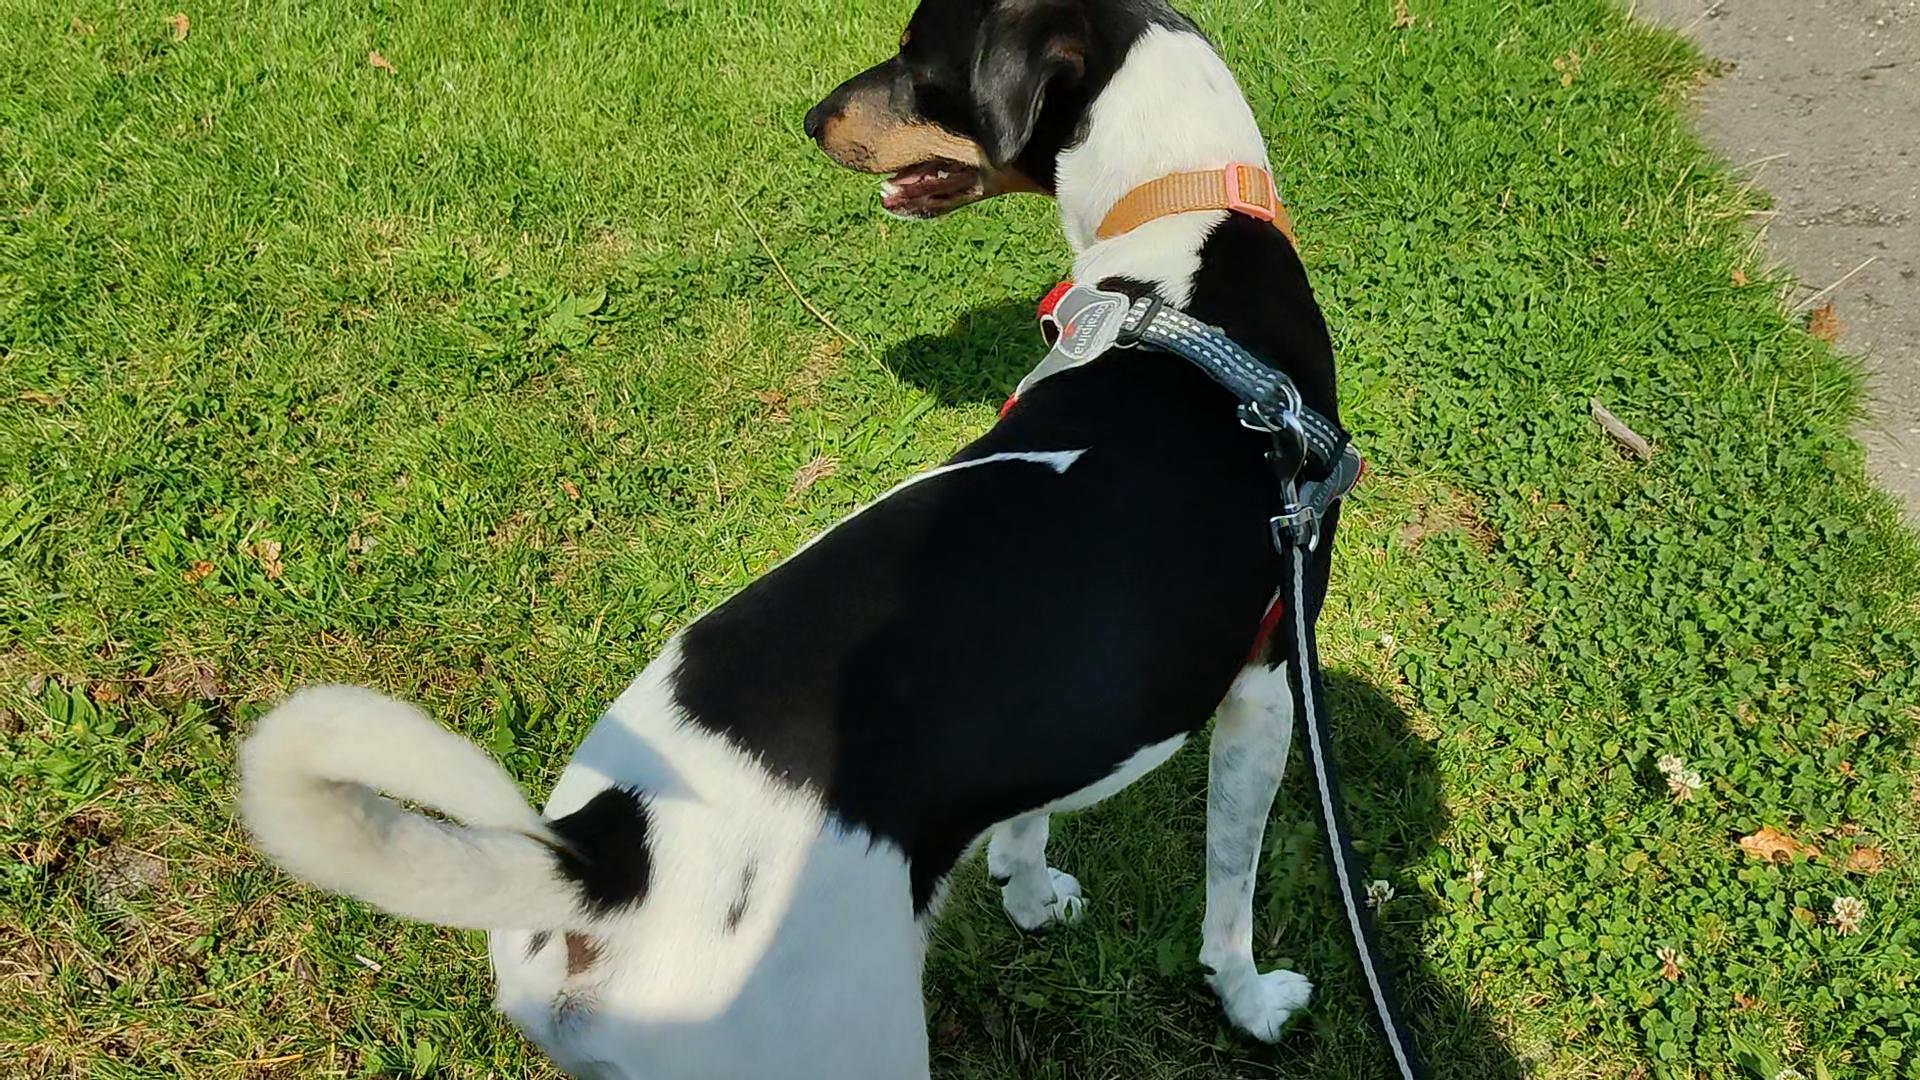Dog: (222, 0, 1360, 1079)
